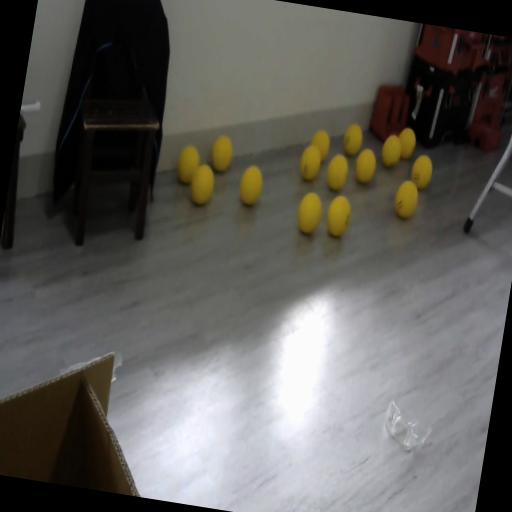FUEL: (186, 160, 218, 208), (294, 190, 326, 236), (322, 191, 353, 238), (172, 142, 202, 186), (236, 163, 265, 207), (392, 176, 420, 220), (296, 142, 324, 182), (208, 133, 235, 174), (323, 152, 350, 192), (352, 146, 378, 185), (378, 132, 404, 170), (408, 152, 434, 190), (340, 122, 364, 156)
